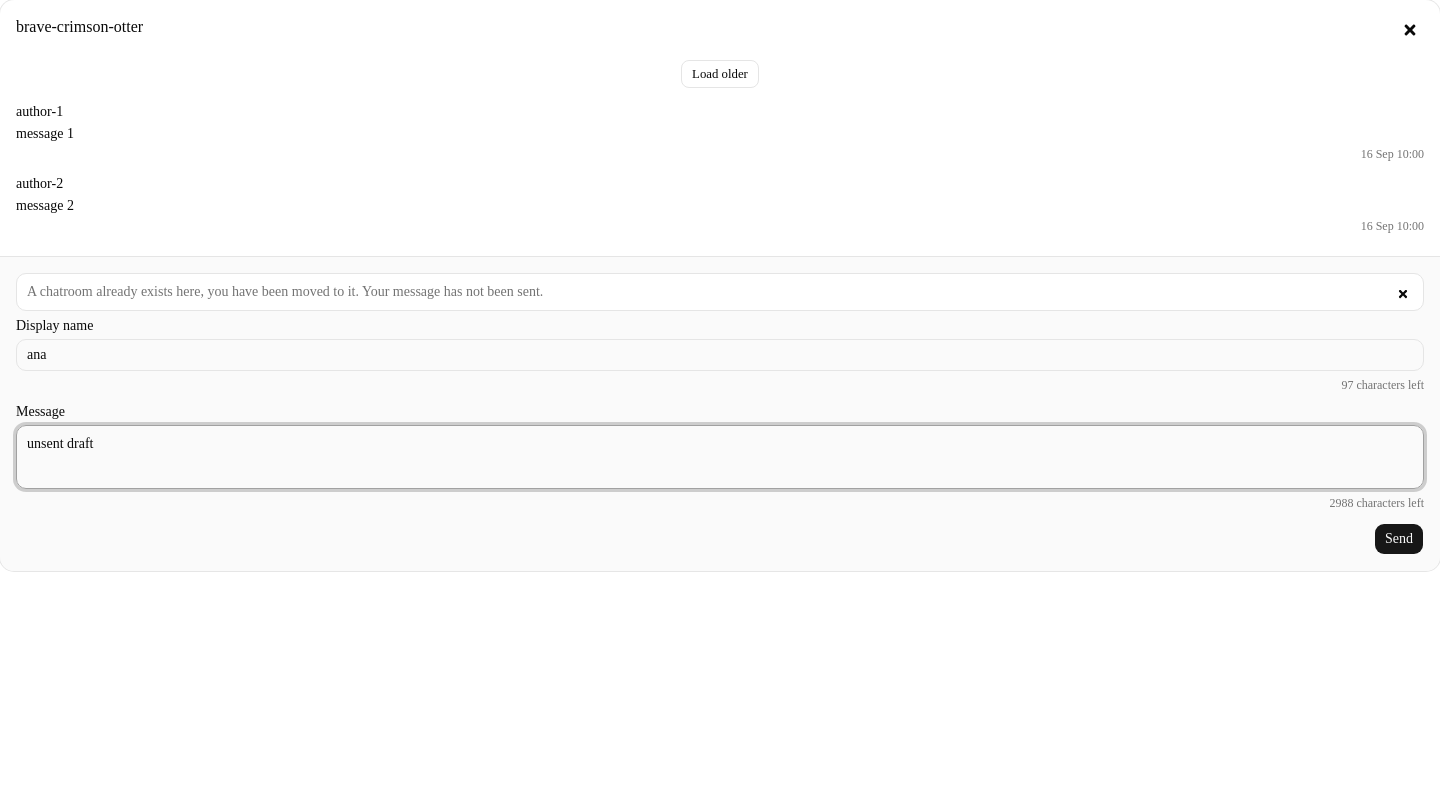
Test case: RoomPanel moved notice › is dismissed by its own button and keeps the prefilled fields
The width and height of the screenshot is (1440, 810).
Click the button named "Dismiss". click: (1403, 294)
box: [1391,282,1415,306]
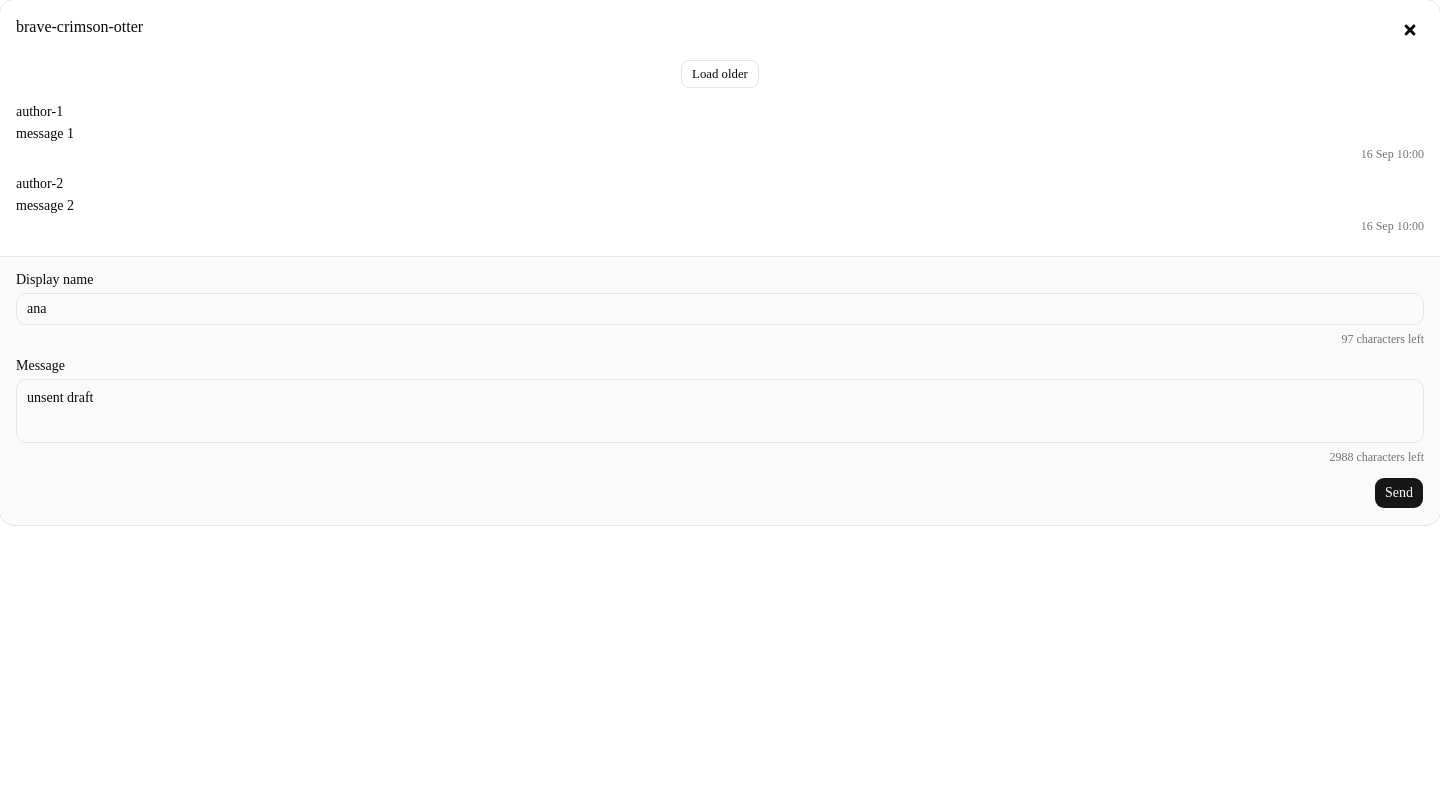
Expected: the field labelled "Display name" holds "ana", [16,293,1424,325]
Now the text "A chatroom already exists here, you have been moved to it. Your message has not been sent." is gone
